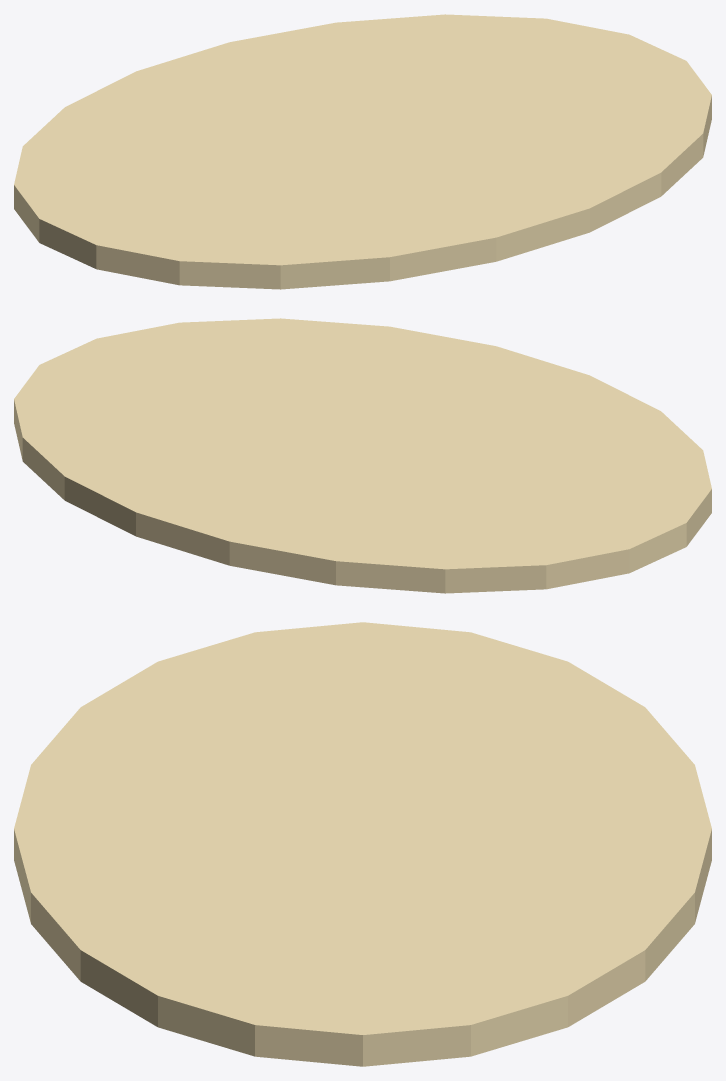
Rendered from naan.glb.
The picture shows the model from 3 angles, top to bottom: view 1: azimuth 30°, elevation 25°; view 2: azimuth 150°, elevation 25°; view 3: azimuth 270°, elevation 25°; orthographic projection. The views are drawn at different scales.
Bounding box in the file's own units: 0.28 × 0.01 × 0.2.
